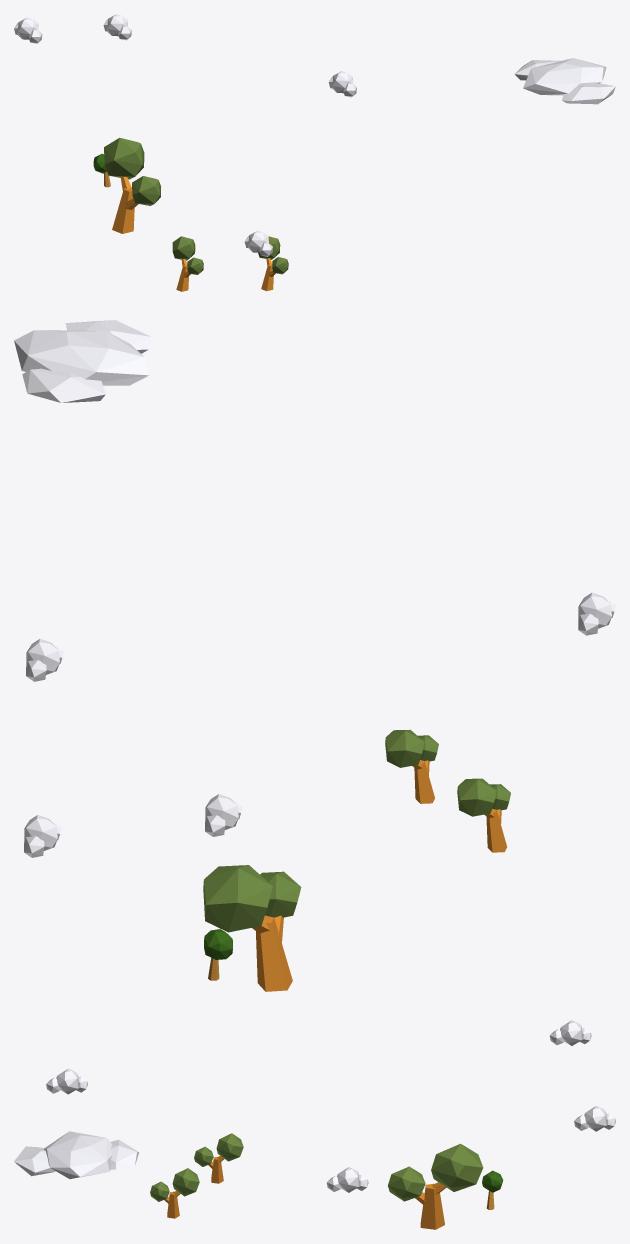
The model's file is low_poly_landscapesmall.glb.
3 views of the same model, one above another, from view 1: azimuth 30°, elevation 25°; view 2: azimuth 150°, elevation 25°; view 3: azimuth 270°, elevation 25° (orthographic). The views are drawn at different scales.
Parts seen in each view (by area): view 1: Icosphere.004_0.003, Icosphere.001_0.002, Icosphere, Icosphere.001_1.002, Icosphere.001, Icosphere.002, Icosphere.004_0.001, Icosphere.004_0.002, Icosphere.002_0.001; view 2: Icosphere.004_0.003, Icosphere.001_0.002, Icosphere, Icosphere.001, Icosphere.001_1.002, Icosphere.002_0.001, Icosphere.004_0.002, Icosphere.002, Icosphere.004_0.001, Cylinder.001; view 3: Icosphere.004_0.003, Icosphere.001_0.002, Icosphere, Icosphere.001, Icosphere.001_1.002, Icosphere.002, Icosphere.002_0.001, Icosphere.004_0.001, Icosphere.004_0.002, Cylinder.001.
Part boxes in pixels (x1,y1,x2,y2): Icosphere.004_0.003: [514, 58, 615, 104]; Icosphere.001_0.002: [104, 137, 160, 205]; Icosphere: [172, 236, 203, 291]; Icosphere.001_1.002: [112, 176, 138, 233]; Icosphere.001: [258, 236, 288, 291]; Icosphere.002: [14, 17, 42, 43]; Icosphere.004_0.001: [103, 14, 131, 40]; Icosphere.004_0.002: [328, 71, 356, 97]; Icosphere.002_0.001: [244, 231, 272, 256]; Icosphere.004_0.003: [14, 320, 151, 402]; Icosphere.001_0.002: [203, 865, 301, 932]; Icosphere: [457, 778, 510, 852]; Icosphere.001: [385, 729, 438, 803]; Icosphere.001_1.002: [252, 915, 292, 991]; Icosphere.002_0.001: [578, 592, 615, 635]; Icosphere.004_0.002: [26, 639, 63, 681]; Icosphere.002: [205, 794, 242, 836]; Icosphere.004_0.001: [24, 815, 61, 857]; Cylinder.001: [204, 929, 232, 980]; Icosphere.004_0.003: [14, 1131, 139, 1179]; Icosphere.001_0.002: [388, 1143, 483, 1201]; Icosphere: [194, 1133, 243, 1183]; Icosphere.001: [150, 1168, 199, 1218]; Icosphere.001_1.002: [415, 1182, 446, 1229]; Icosphere.002: [549, 1020, 591, 1045]; Icosphere.002_0.001: [46, 1068, 87, 1094]; Icosphere.004_0.001: [574, 1106, 615, 1131]; Icosphere.004_0.002: [326, 1167, 368, 1192]; Cylinder.001: [482, 1170, 503, 1209].
Size of the model in its own units: 34.96 by 19.23 by 45.5.
